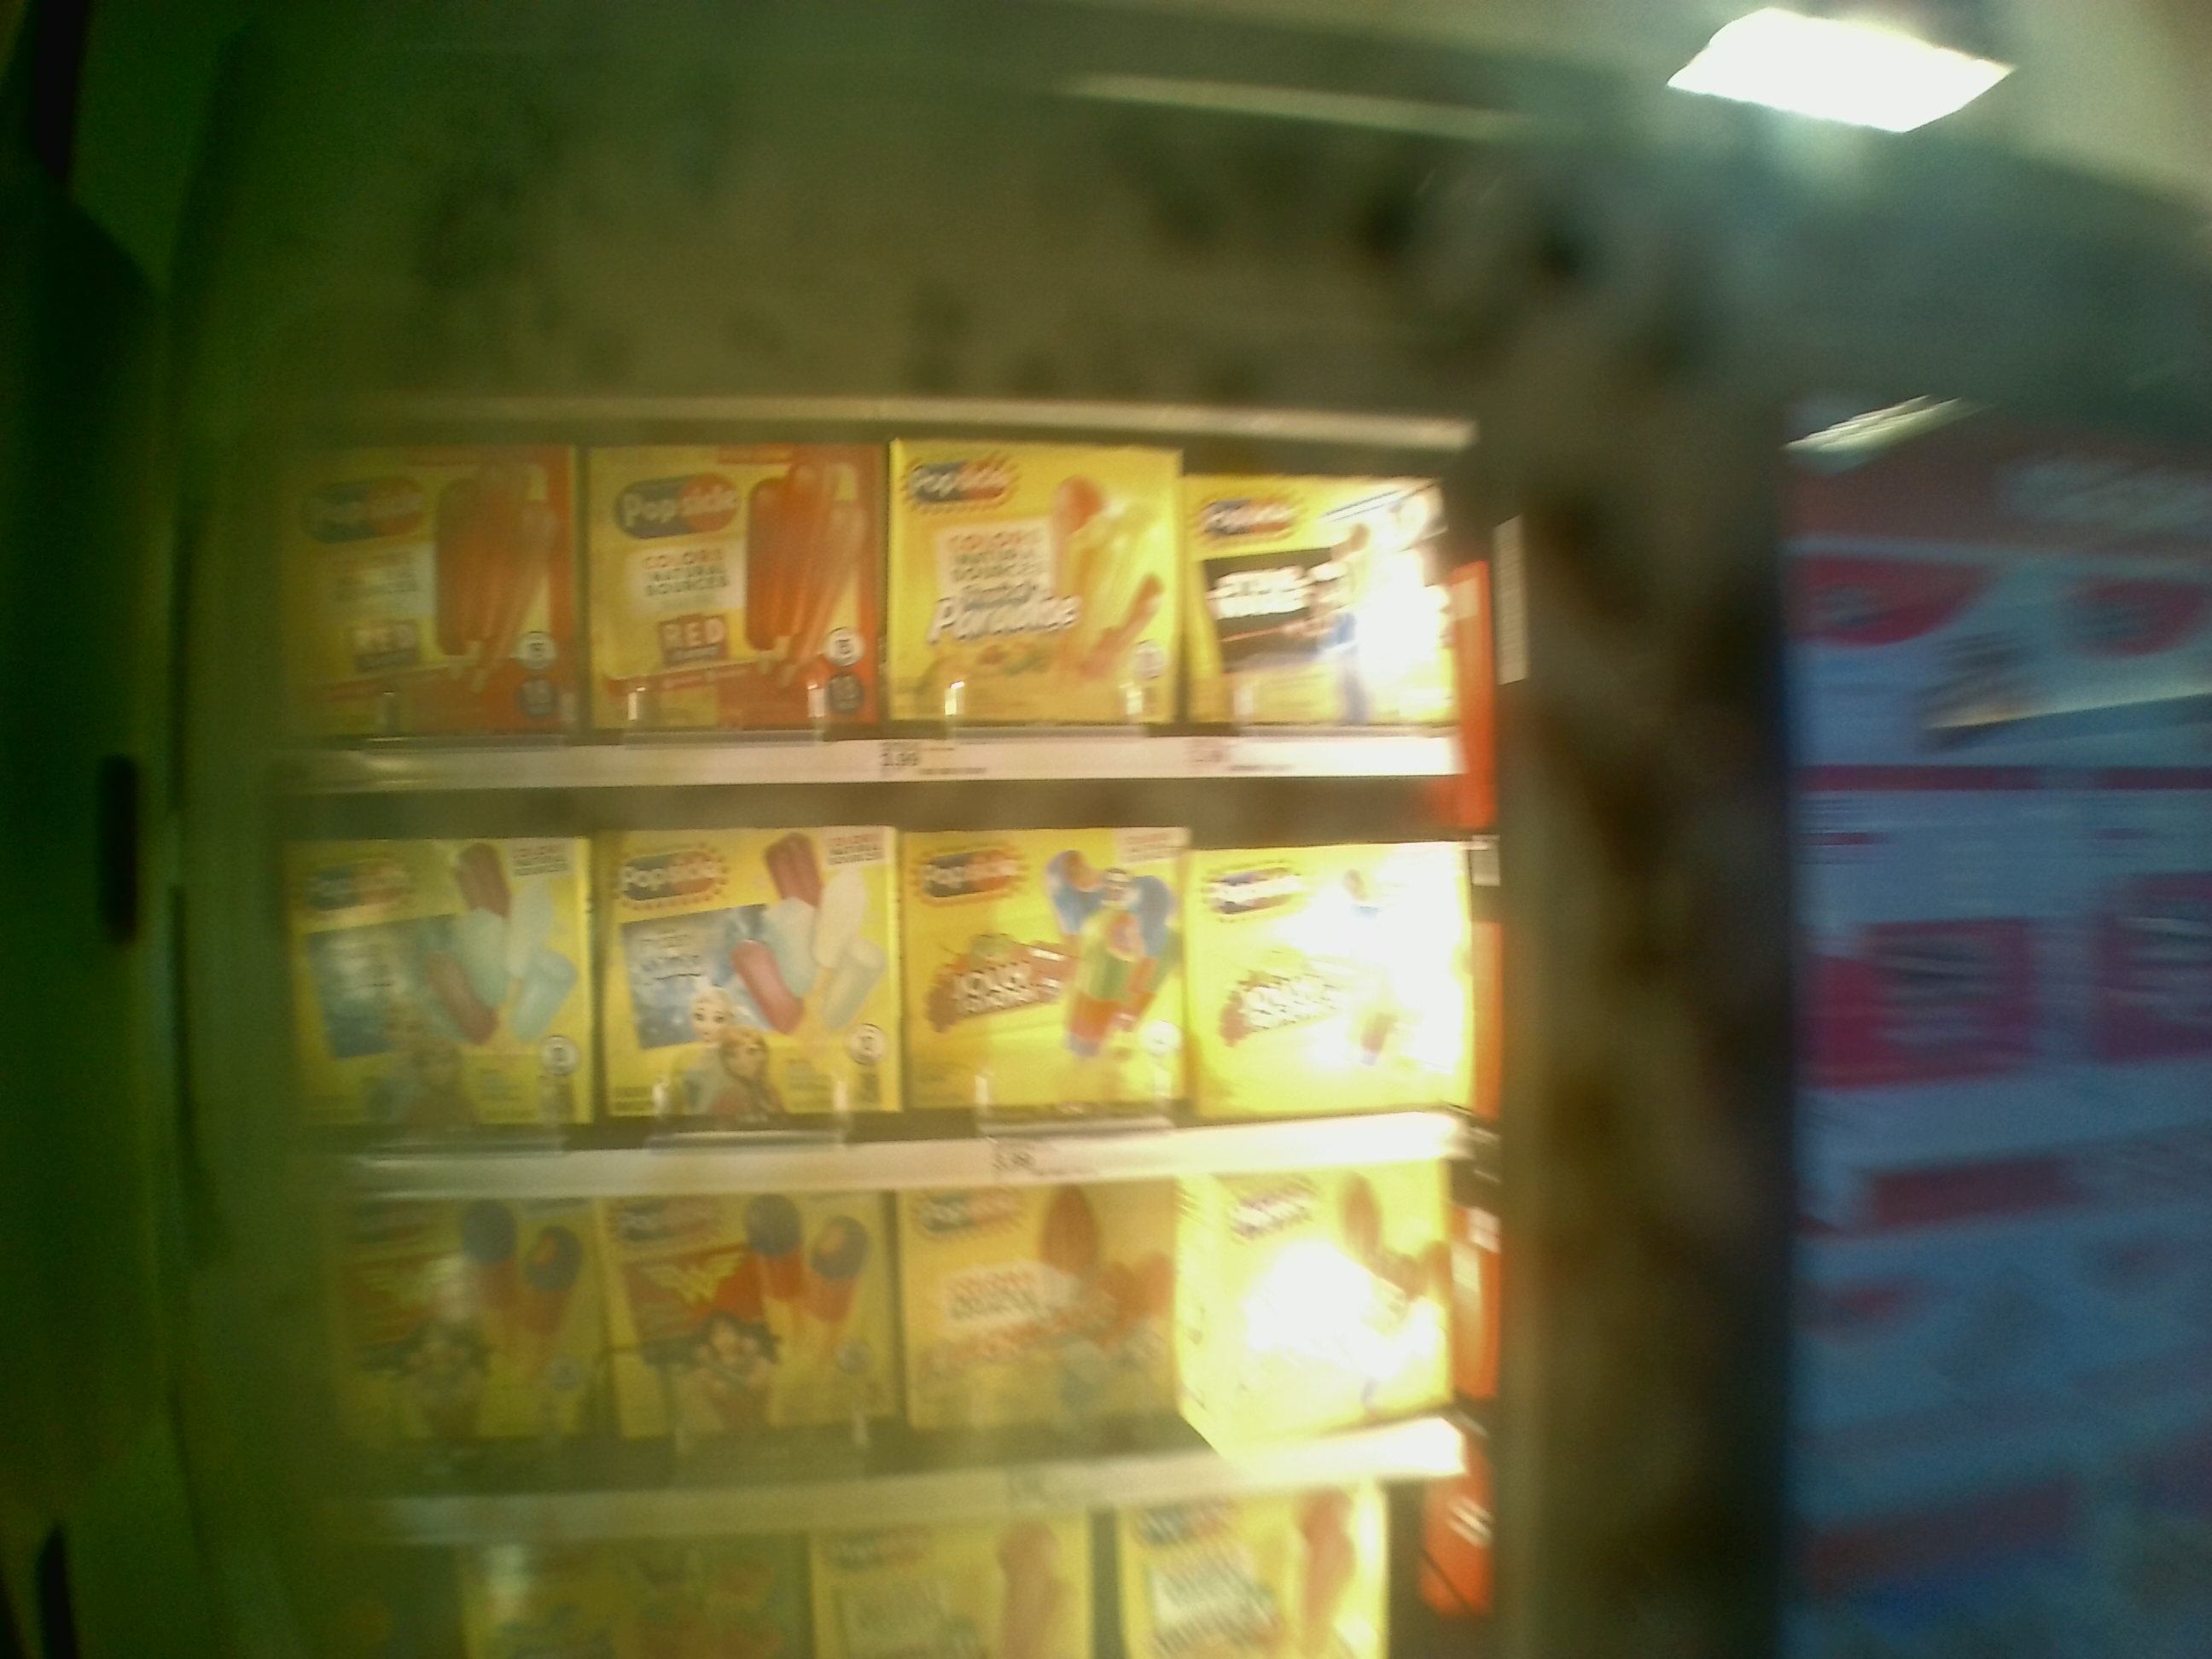frozen-food-shelf: (270, 812, 1496, 1199), (270, 448, 1461, 798), (282, 1202, 1470, 1516)
